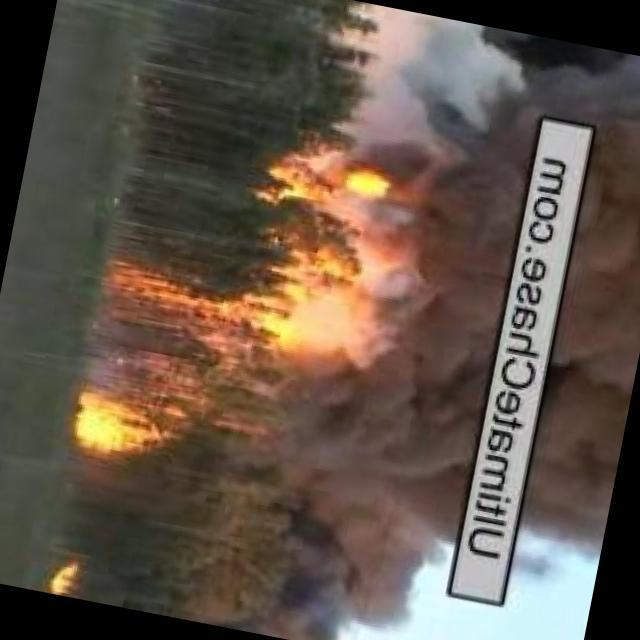Fire: (88, 239, 343, 366), (274, 156, 419, 233), (68, 389, 187, 475), (43, 554, 94, 602)
